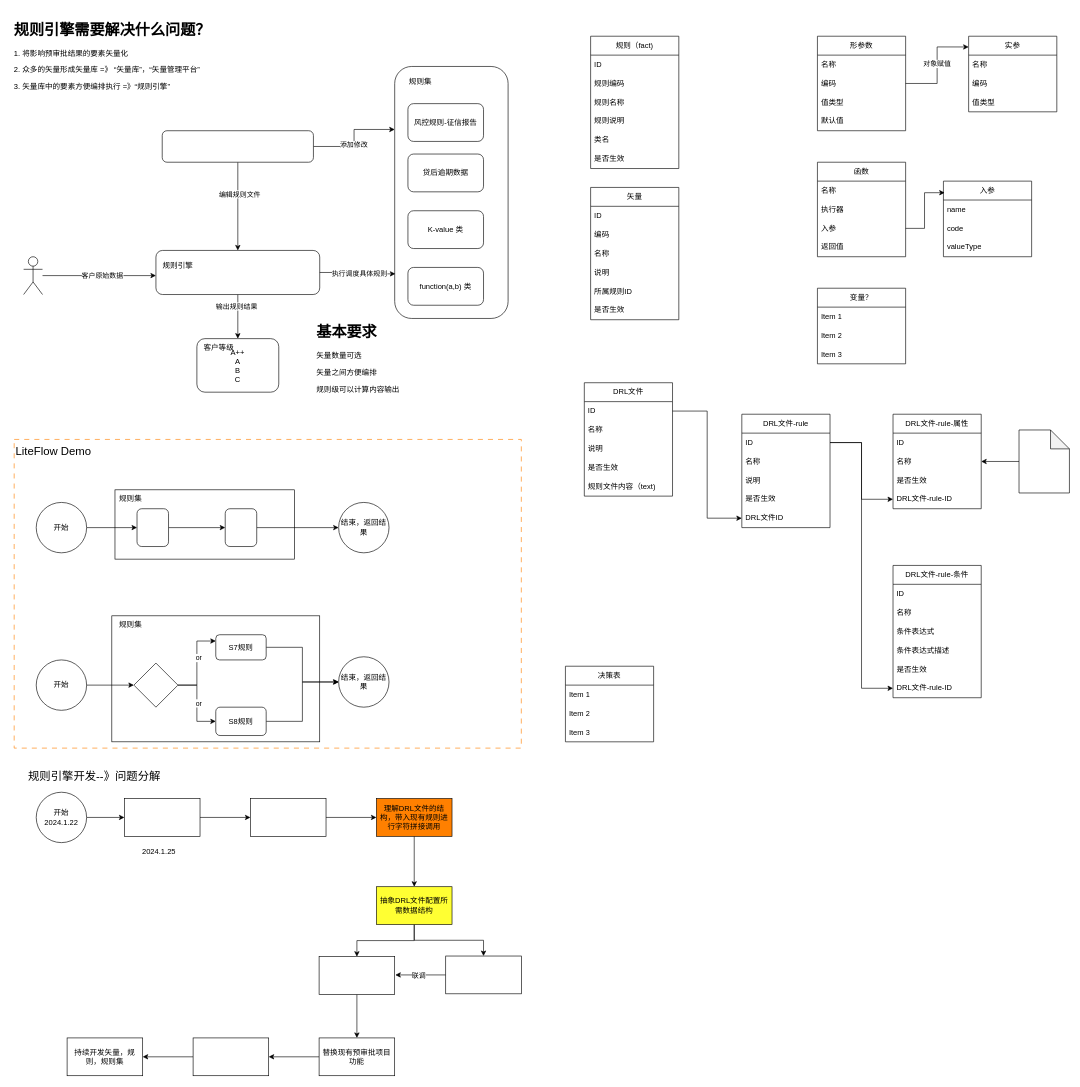
Image size: 1080x1087. Some labels were removed from this diagram. Here are the shapes that lost their labels. From the top down, the centre of each, then its label:
the point at 237,146: 前端配置操作界面
the point at 33,275: Actor
the point at 1043,461: 属性字典
the point at 152,527: S4 规则
the point at 241,527: S5 规则
the point at 155,684: S6规则
the point at 162,817: 搭建调用Drools 规则demo
the point at 288,817: 确认调用Drools引擎的方式
the point at 356,975: 后端基础业务逻辑实现
the point at 483,974: 前端基本操作页面实现
the point at 230,1056: 明确后续规则修改添加动作
